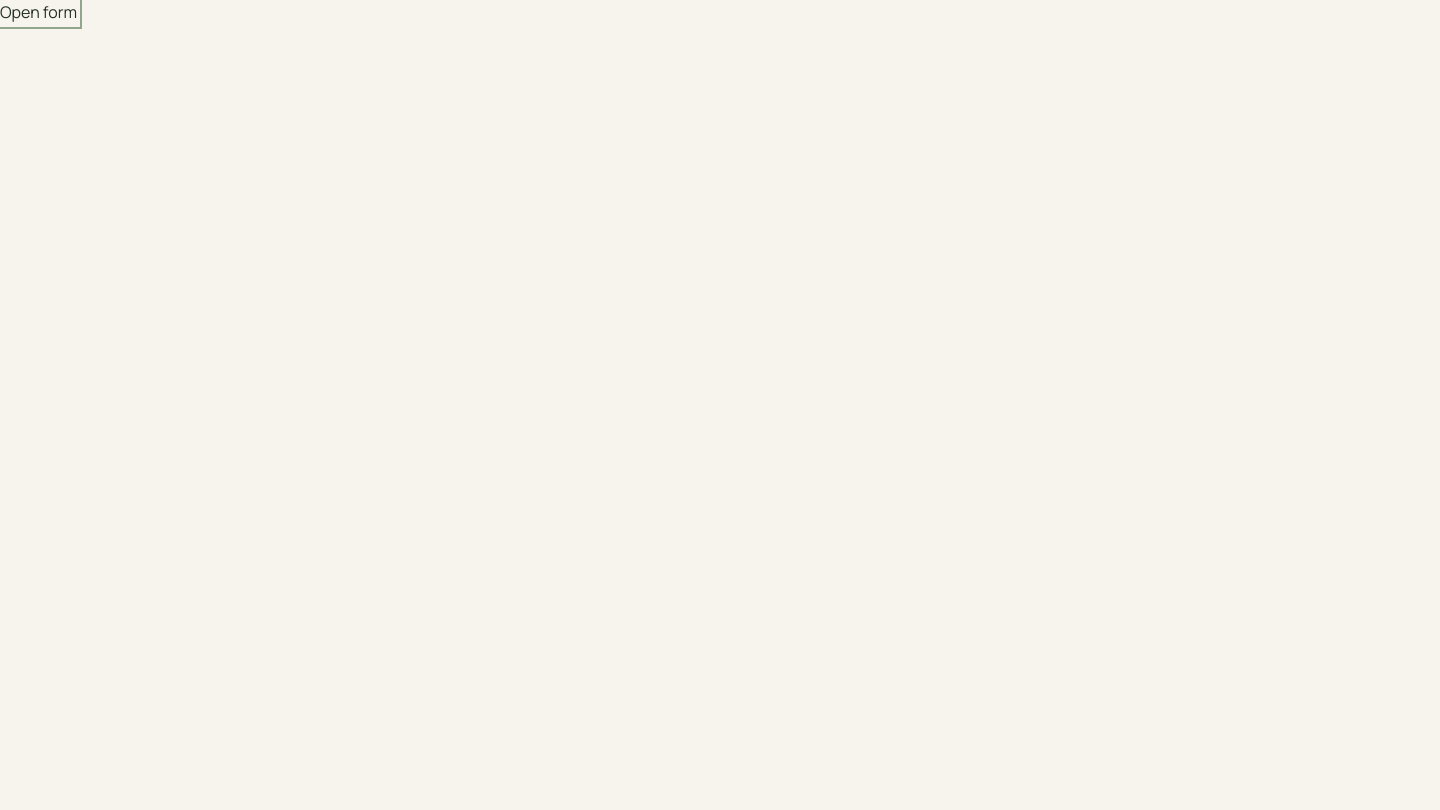
Test: presentation lifecycle › retains the dialog for exit motion, restores focus and unlocks scrolling
This screenshot has width=1440, height=810.
Later steps or results of the test are not shown.
Step 1. Click the button "Open form" → [38, 12], box [0, 0, 77, 24]
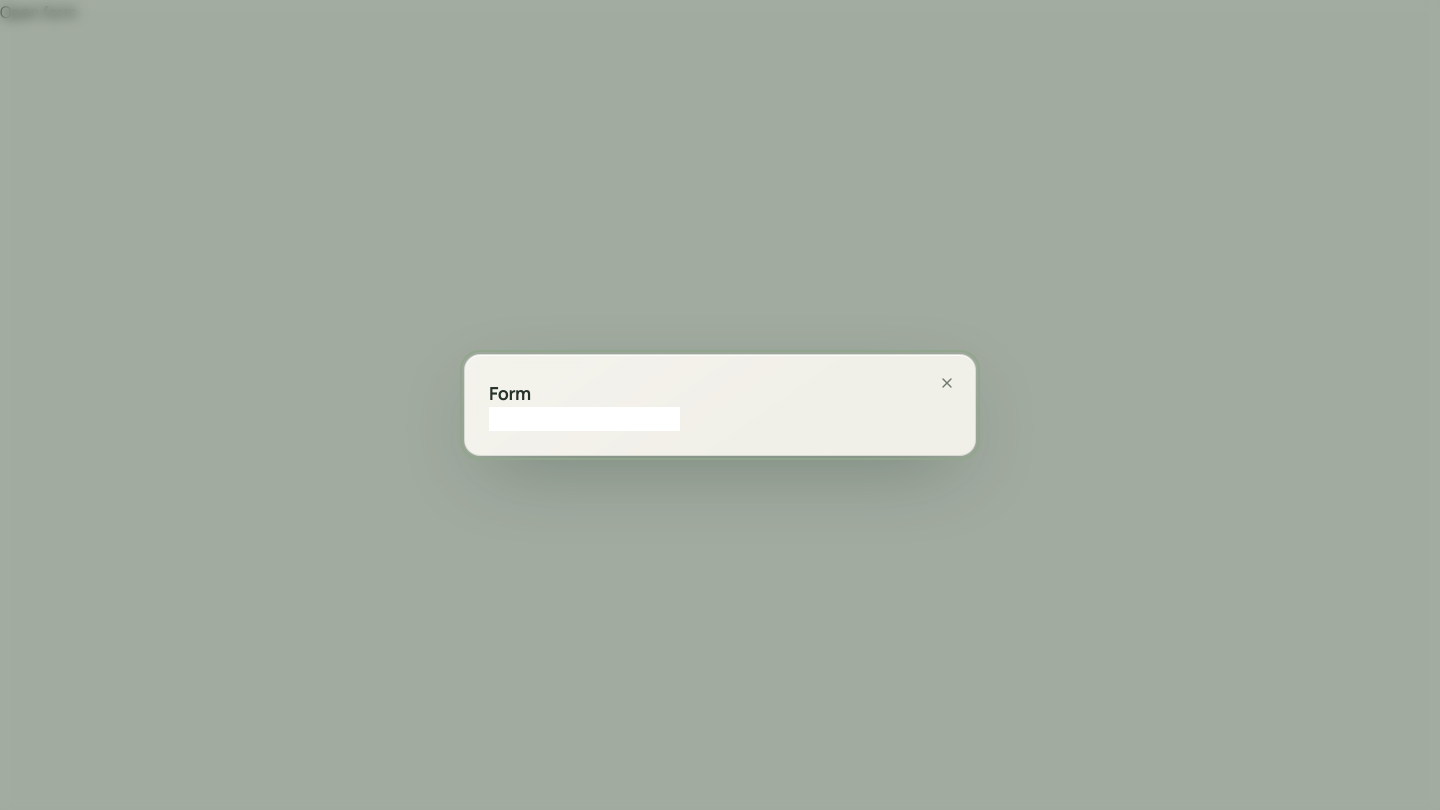
Step 2. Press Escape
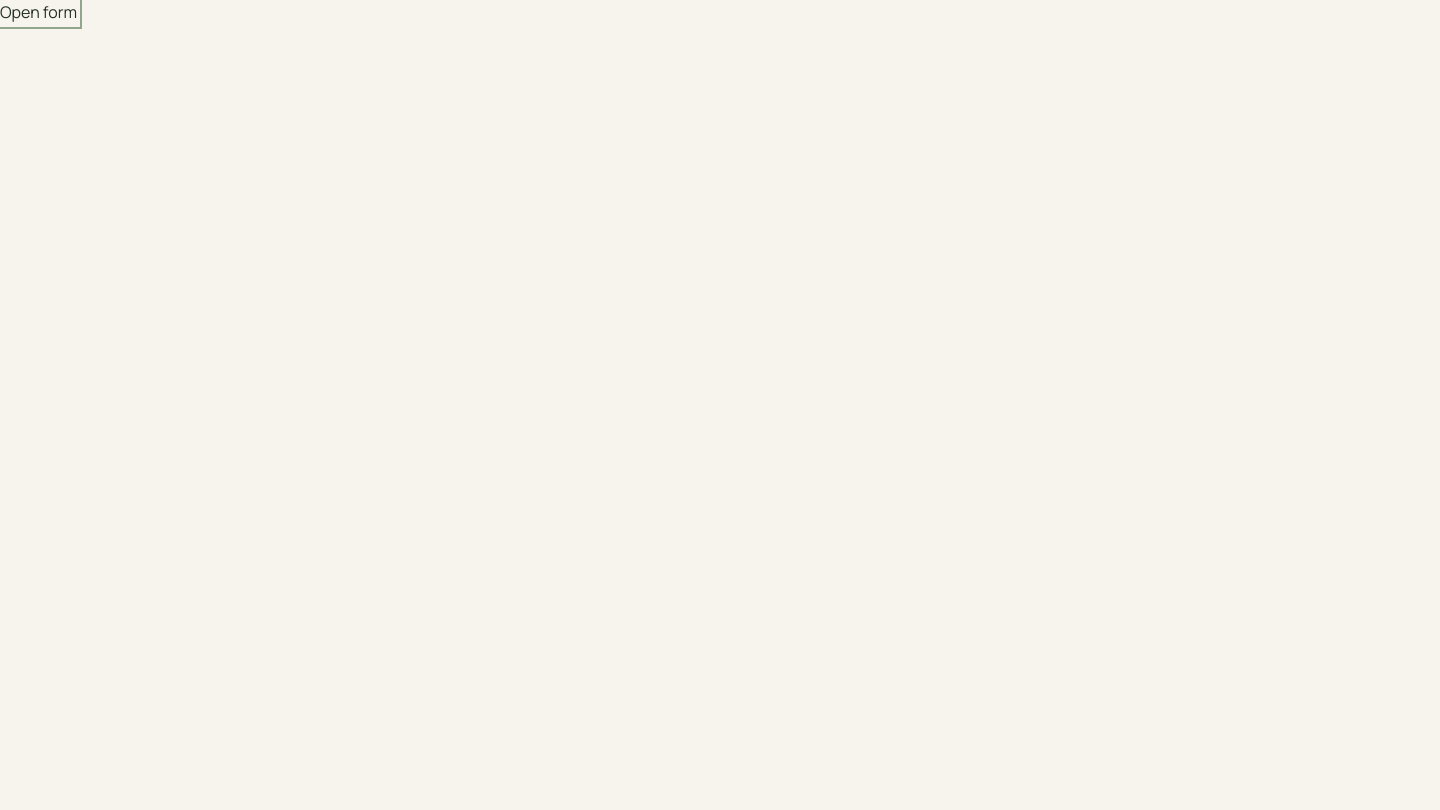
Now the dialog is gone
